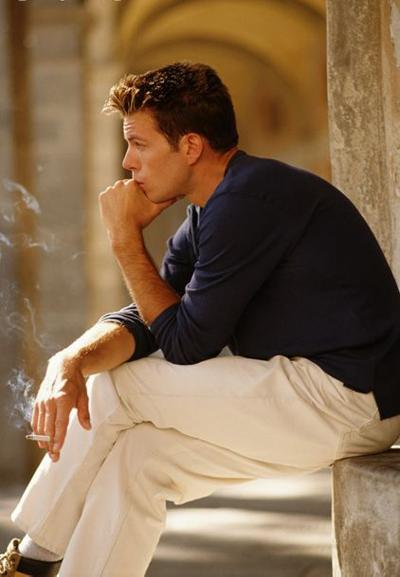person: (2, 62, 400, 577)
